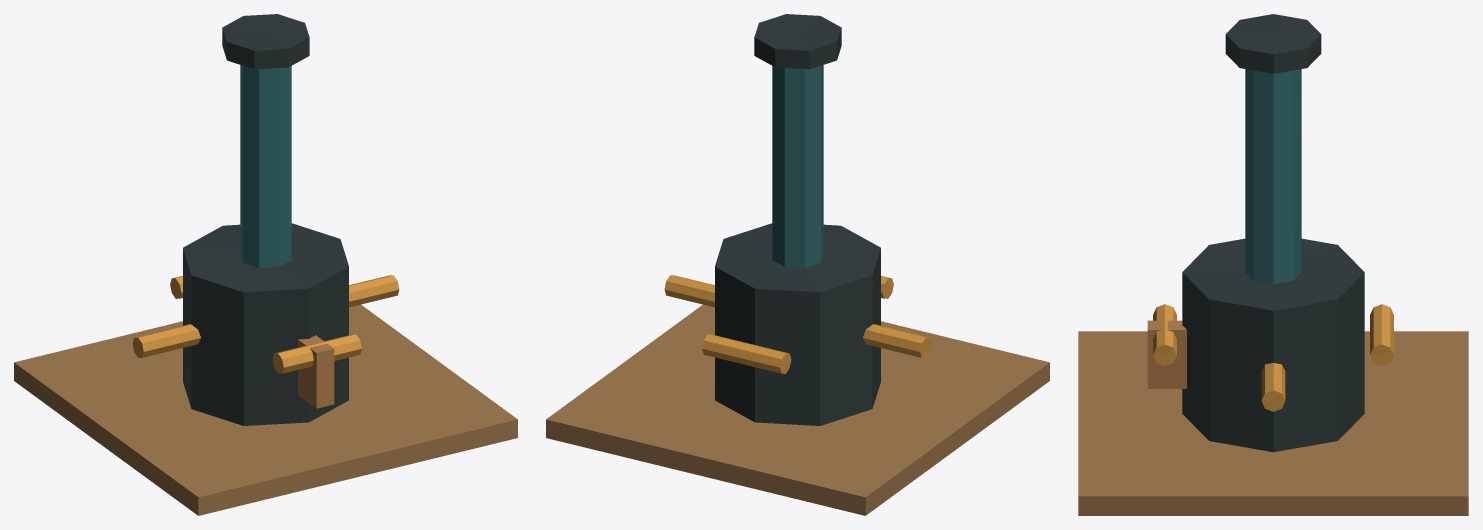
File: frost-heater.source.glb
The picture shows the model from 3 angles, left to right: view 1: azimuth 30°, elevation 25°; view 2: azimuth 150°, elevation 25°; view 3: azimuth 270°, elevation 25°; orthographic projection. The views are drawn at different scales.
Parts seen in each view (by area): view 1: frost-heater-base-mesh, frost-heater-heater-pot-mesh, frost-heater-flue-mesh, frost-heater-cap-mesh, frost-heater-burner-door-mesh, frost-heater-heat-fin-1-mesh, frost-heater-heat-fin-2-mesh, frost-heater-heat-fin-0-mesh; view 2: frost-heater-base-mesh, frost-heater-heater-pot-mesh, frost-heater-flue-mesh, frost-heater-cap-mesh, frost-heater-heat-fin-3-mesh, frost-heater-heat-fin-2-mesh, frost-heater-heat-fin-0-mesh; view 3: frost-heater-base-mesh, frost-heater-heater-pot-mesh, frost-heater-flue-mesh, frost-heater-cap-mesh, frost-heater-burner-door-mesh, frost-heater-heat-fin-3-mesh, frost-heater-heat-fin-1-mesh, frost-heater-heat-fin-0-mesh.
Boxes of the visible parts, box(x1,y1,x2,y2) form: frost-heater-base-mesh: box(14, 304, 517, 515); frost-heater-heater-pot-mesh: box(183, 223, 348, 425); frost-heater-flue-mesh: box(240, 65, 291, 267); frost-heater-cap-mesh: box(222, 14, 309, 69); frost-heater-burner-door-mesh: box(298, 335, 334, 408); frost-heater-heat-fin-1-mesh: box(272, 334, 361, 373); frost-heater-heat-fin-2-mesh: box(132, 324, 200, 357); frost-heater-heat-fin-0-mesh: box(349, 275, 399, 307); frost-heater-base-mesh: box(546, 304, 1049, 515); frost-heater-heater-pot-mesh: box(715, 223, 880, 425); frost-heater-flue-mesh: box(772, 65, 823, 267); frost-heater-cap-mesh: box(754, 14, 841, 69); frost-heater-heat-fin-3-mesh: box(702, 334, 791, 373); frost-heater-heat-fin-2-mesh: box(863, 324, 931, 357); frost-heater-heat-fin-0-mesh: box(664, 275, 714, 307); frost-heater-base-mesh: box(1078, 331, 1468, 515); frost-heater-heater-pot-mesh: box(1182, 238, 1364, 452); frost-heater-flue-mesh: box(1245, 69, 1301, 283); frost-heater-cap-mesh: box(1225, 14, 1321, 73); frost-heater-burner-door-mesh: box(1147, 320, 1186, 388); frost-heater-heat-fin-3-mesh: box(1370, 304, 1393, 365); frost-heater-heat-fin-1-mesh: box(1153, 304, 1176, 365); frost-heater-heat-fin-0-mesh: box(1261, 363, 1285, 411).
Bounding box in the file's own units: 1.8 × 2.03 × 1.8.
